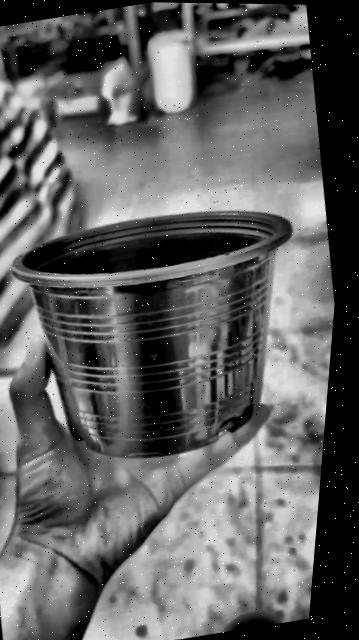pot: (10, 212, 290, 458)
